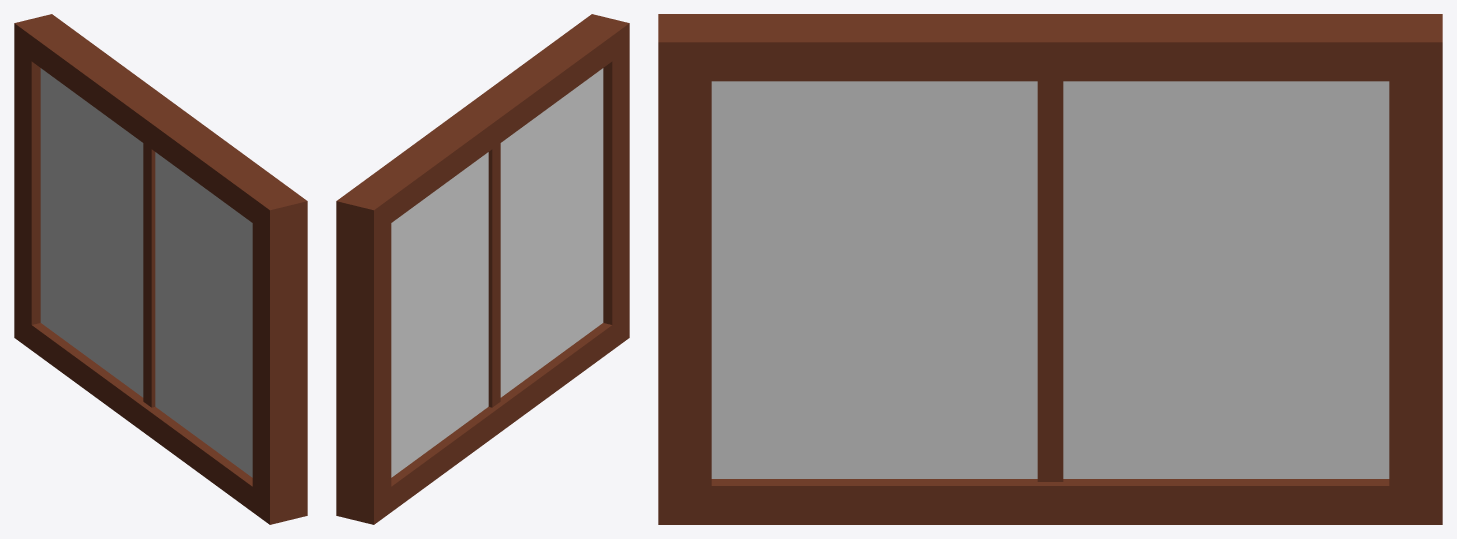
Rendered from window_1_asset.dae.
3 views of the same model, side by side, from view 1: azimuth 30°, elevation 25°; view 2: azimuth 150°, elevation 25°; view 3: azimuth 270°, elevation 25° (orthographic). The views are drawn at different scales.
Parts seen in each view (by area): view 1: Cube; view 2: Cube; view 3: Cube.
Part boxes in pixels (bbox=[...]): Cube: bbox=[14, 14, 307, 524]; Cube: bbox=[336, 14, 629, 524]; Cube: bbox=[658, 14, 1442, 524].
Size of the model in its own units: 0.1275 by 1.5 by 1.02.
